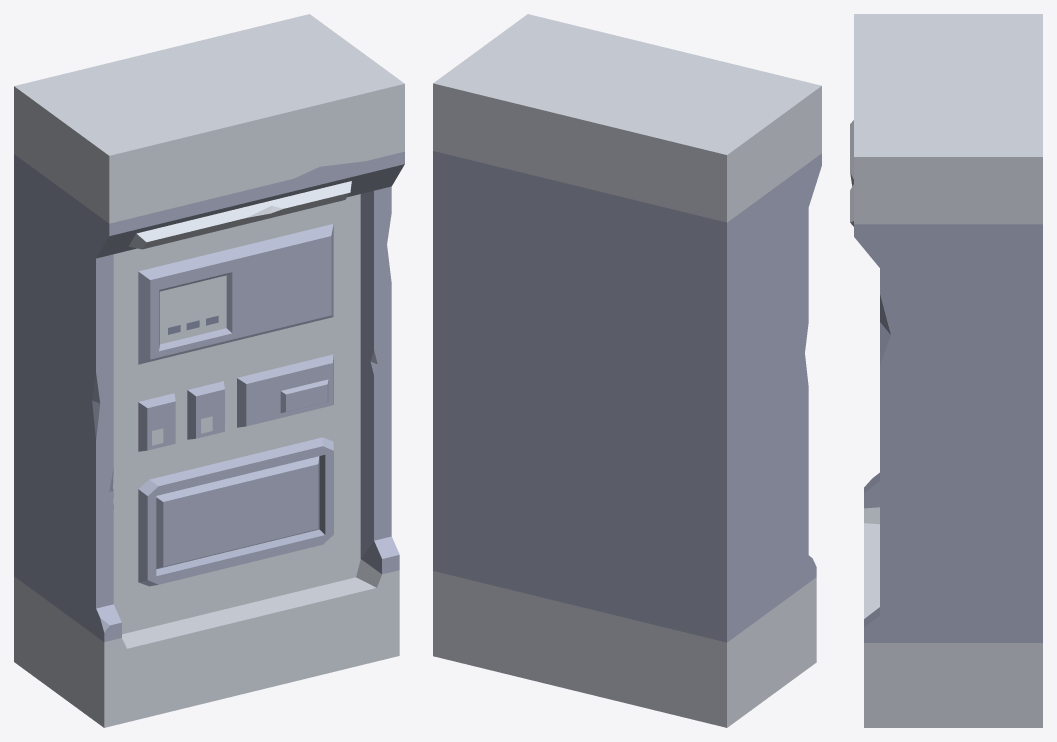
The model's file is Wall2.FBX.
3 views of the same model, side by side, from view 1: azimuth 30°, elevation 25°; view 2: azimuth 150°, elevation 25°; view 3: azimuth 270°, elevation 25° (orthographic).
Parts seen in each view (by area): view 1: Wall2; view 2: Wall2; view 3: Wall2.
Part boxes in pixels (x1,y1,x2,y2): Wall2: [14, 14, 404, 727]; Wall2: [433, 14, 821, 727]; Wall2: [850, 14, 1042, 727].
Bounding box in the file's own units: 18.92 × 35.21 × 10.77.
